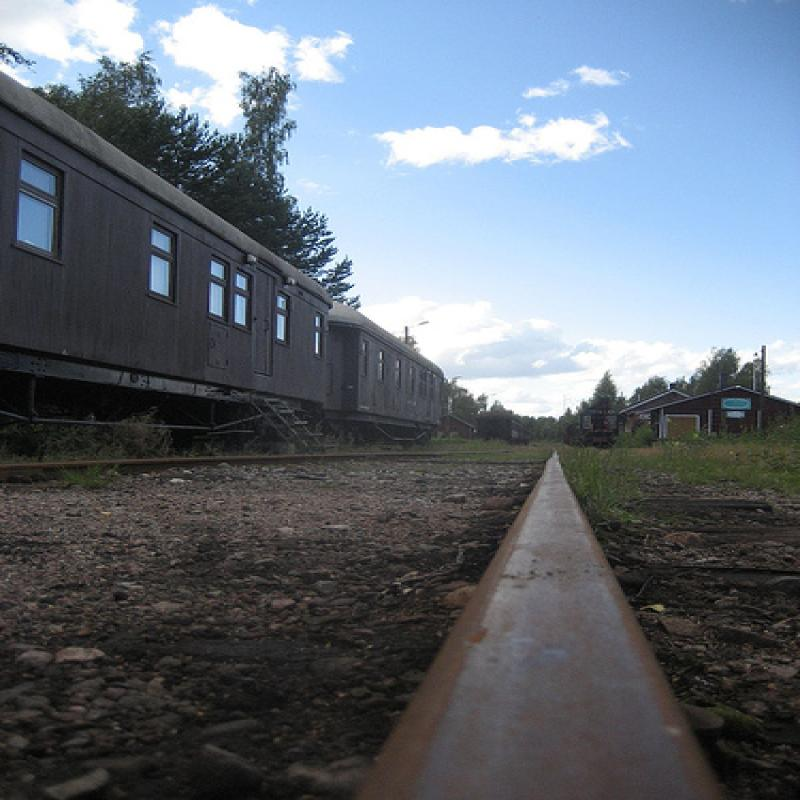train: (3, 73, 449, 438), (564, 409, 628, 451)
